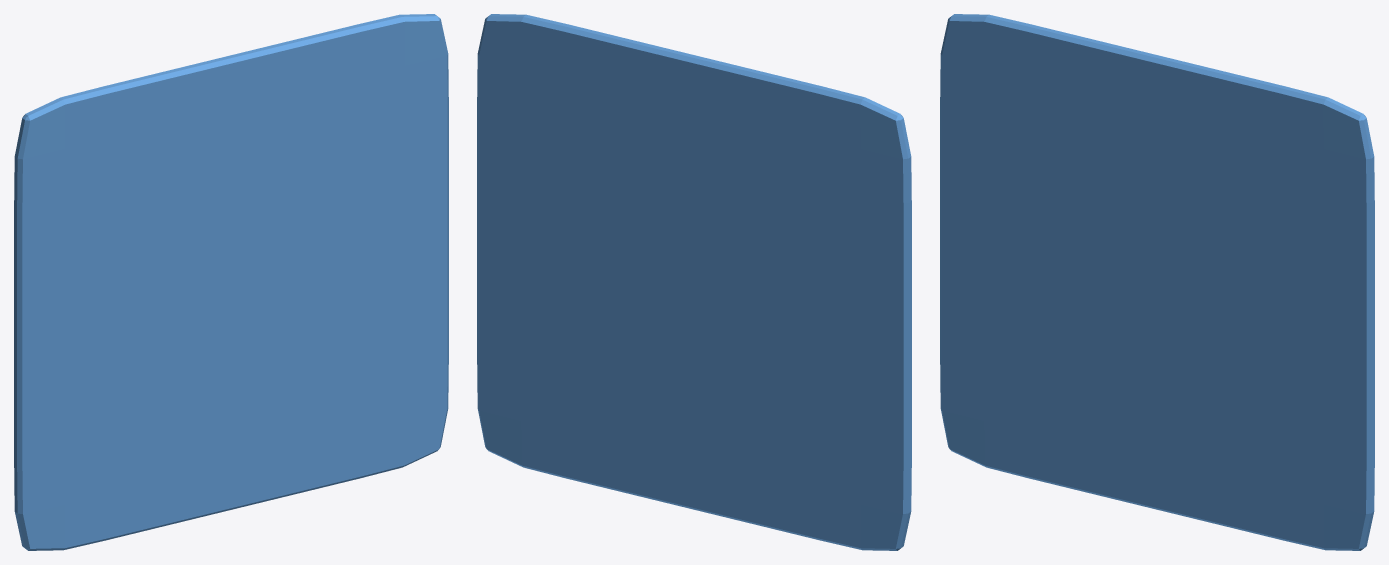
The model's file is Blankie.fbx.
The picture shows the model from 3 angles, left to right: view 1: azimuth 30°, elevation 25°; view 2: azimuth 150°, elevation 25°; view 3: azimuth 330°, elevation 25°; orthographic projection.
Visible parts, largest first — view 1: Blanket; view 2: Blanket; view 3: Blanket.
Boxes of the visible parts, left/top/right/bottom form: Blanket: left=14, top=14, right=448, bottom=550; Blanket: left=477, top=14, right=911, bottom=550; Blanket: left=940, top=14, right=1374, bottom=550.
Bounding box in the file's own units: 4 × 4 × 0.1107.
